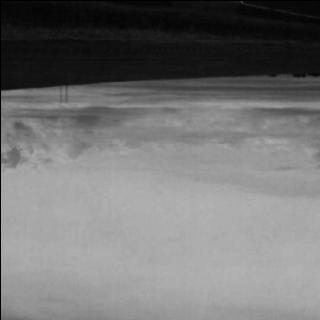Cirrostratus: (0, 92, 320, 193)
